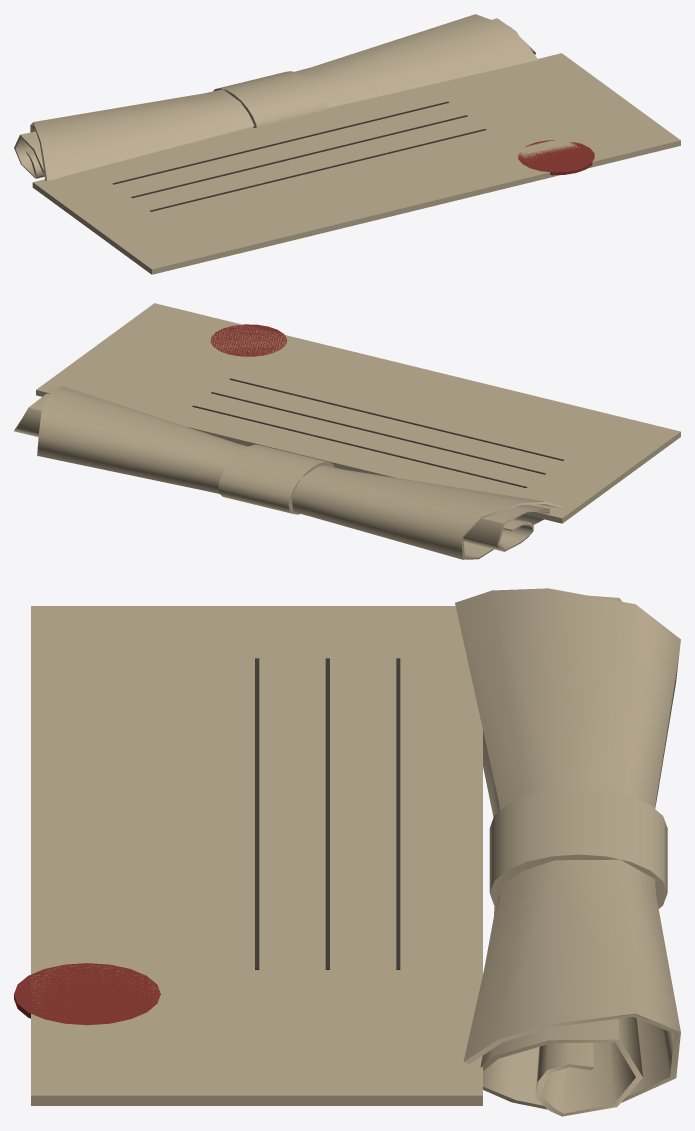
Rendered from station_edric.glb.
The picture shows the model from 3 angles, top to bottom: view 1: azimuth 30°, elevation 25°; view 2: azimuth 150°, elevation 25°; view 3: azimuth 270°, elevation 25°; orthographic projection. The views are drawn at different scales.
Visible parts, largest first — view 1: WorkContactPart, RetainedDispatchRoll, DispatchSeal, DispatchInkLine, DispatchInkLine.001, DispatchInkLine.002; view 2: WorkContactPart, RetainedDispatchRoll, DispatchSeal, DispatchInkLine, DispatchInkLine.002, DispatchInkLine.001; view 3: WorkContactPart, RetainedDispatchRoll, DispatchSeal, DispatchInkLine, DispatchInkLine.001, DispatchInkLine.002.
Boxes of the visible parts, x1,y1,x2,y2 form: WorkContactPart: (32, 53, 680, 274); RetainedDispatchRoll: (14, 14, 538, 180); DispatchSeal: (518, 140, 594, 175); DispatchInkLine: (112, 101, 449, 184); DispatchInkLine.001: (131, 115, 467, 198); DispatchInkLine.002: (150, 129, 486, 211); WorkContactPart: (36, 303, 680, 523); RetainedDispatchRoll: (14, 386, 562, 559); DispatchSeal: (210, 324, 286, 356); DispatchInkLine: (192, 405, 527, 487); DispatchInkLine.002: (229, 378, 564, 460); DispatchInkLine.001: (211, 392, 545, 474); WorkContactPart: (31, 606, 482, 1105); RetainedDispatchRoll: (455, 588, 680, 1116); DispatchSeal: (14, 963, 160, 1025); DispatchInkLine: (396, 658, 400, 969); DispatchInkLine.001: (325, 658, 329, 969); DispatchInkLine.002: (255, 658, 259, 969).
Bounding box in the file's own units: 0.41 × 0.036 × 0.236.
